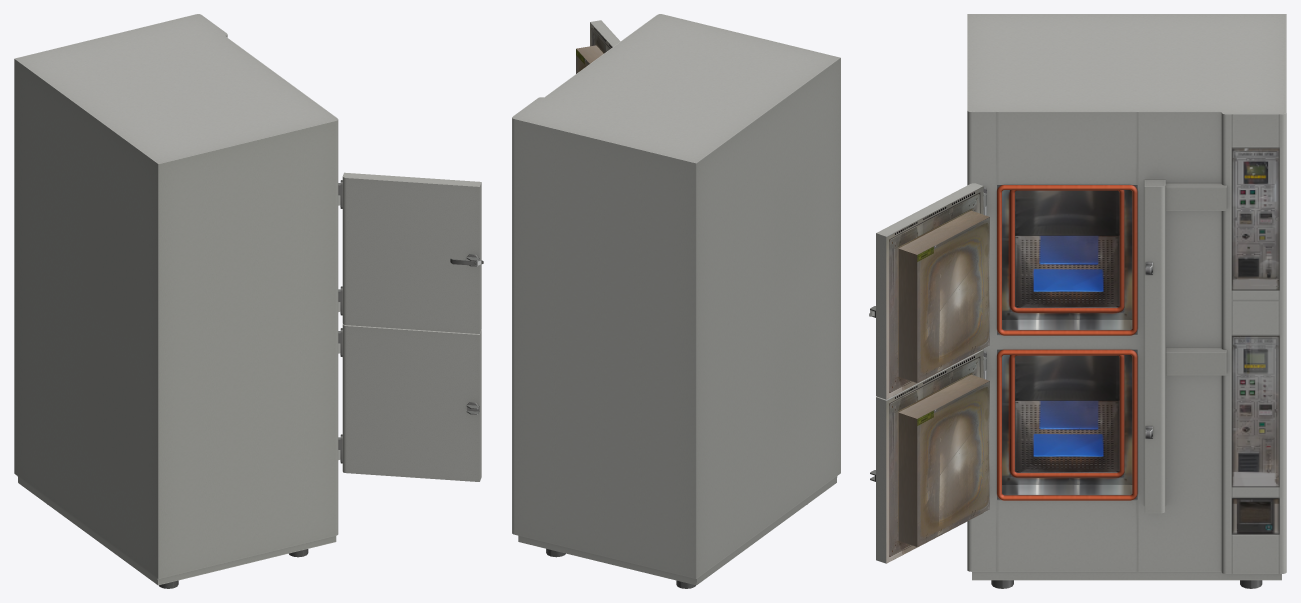
The model's file is A_post.glb.
3 renders of one model, left to right at view 1: azimuth 30°, elevation 25°; view 2: azimuth 150°, elevation 25°; view 3: azimuth 270°, elevation 25°, orthographic. The views are drawn at different scales.
Parts seen in each view (by area): view 1: BASE.001, DOOR1, DOOR2.001; view 2: BASE.001, DOOR1; view 3: BASE.001, DOOR1, DOOR2, DOOR2.001.
Boxes of the visible parts, box(x1,y1,x2,y2) form: BASE.001: box(14, 14, 340, 588); DOOR1: box(338, 172, 481, 333); DOOR2.001: box(338, 324, 481, 481); BASE.001: box(512, 14, 840, 588); DOOR1: box(576, 20, 620, 73); BASE.001: box(967, 14, 1286, 588); DOOR1: box(870, 183, 989, 399); DOOR2: box(870, 349, 989, 563); DOOR2.001: box(870, 350, 988, 563).
Size of the model in its own units: 1.42 by 2.08 by 1.62.
3 materials, 3 textured.
